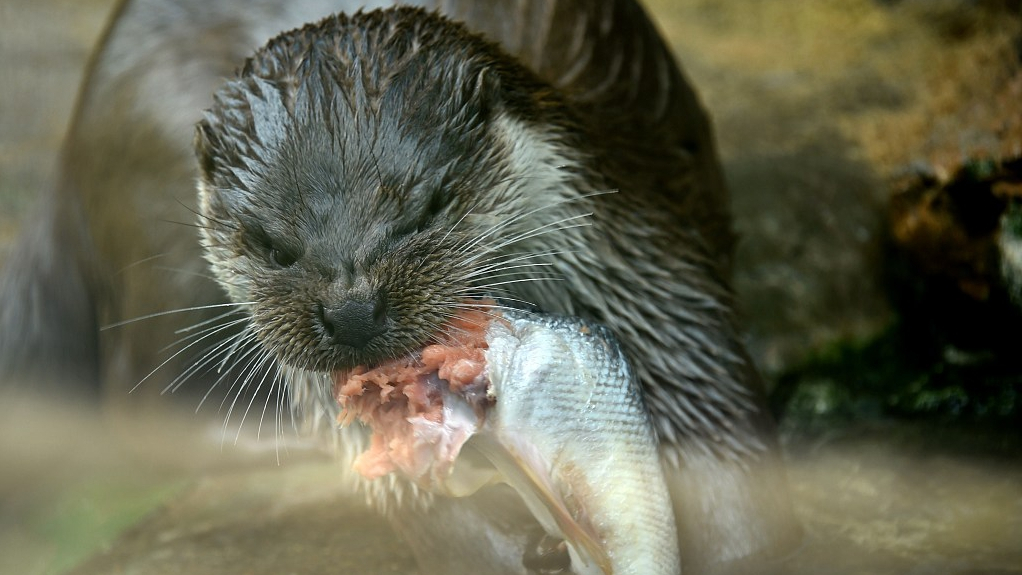otter: (175, 1, 610, 382)
